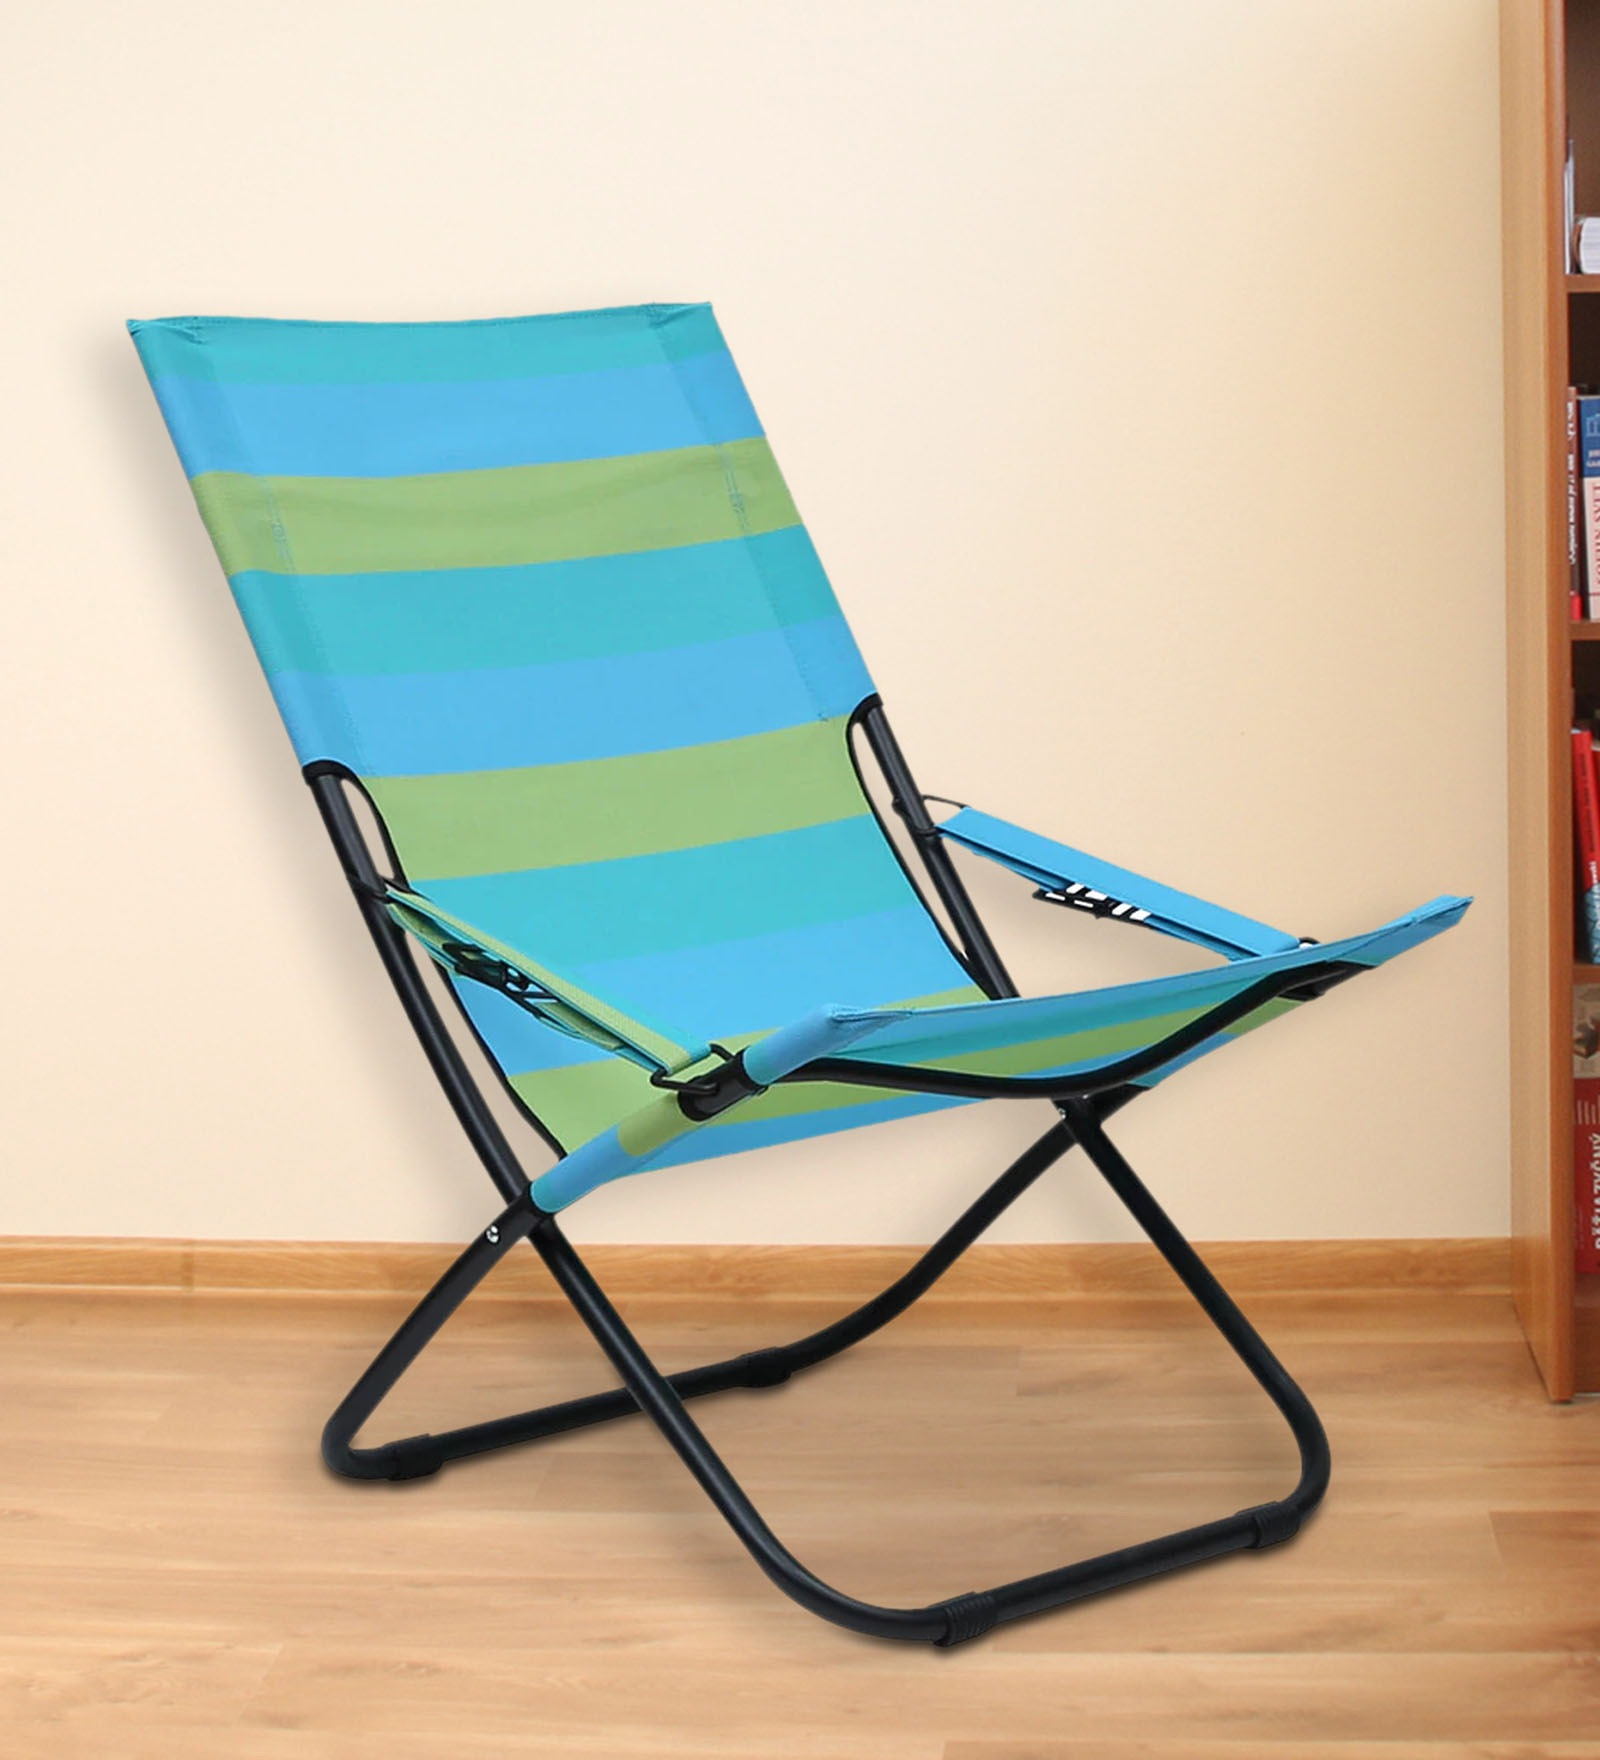Aries Folding Chair in Multicolor by HomeTown: (113, 277, 1487, 1660)
